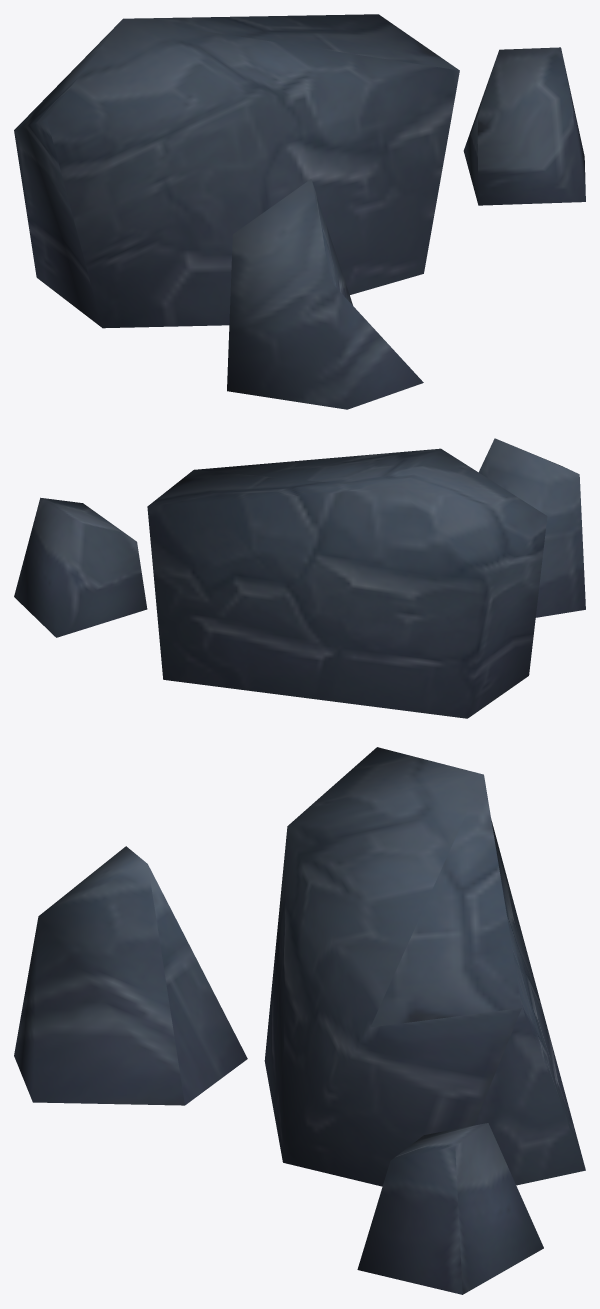
Rendered from Area_14_6.fbx.
The picture shows the model from 3 angles, top to bottom: view 1: azimuth 30°, elevation 25°; view 2: azimuth 150°, elevation 25°; view 3: azimuth 270°, elevation 25°; orthographic projection. The views are drawn at different scales.
Visible parts, largest first — view 1: Area_14_6; view 2: Area_14_6; view 3: Area_14_6.
Part boxes in pixels (box(x1,y1,x2,y2)): Area_14_6: box(14, 14, 585, 409); Area_14_6: box(14, 438, 585, 718); Area_14_6: box(14, 747, 585, 1294).
Size of the model in its own units: 2202 by 885 by 1683.
